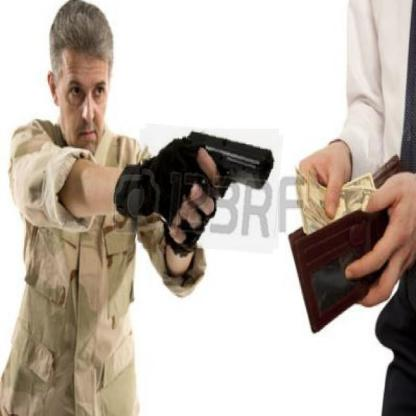handgun: (137, 126, 282, 252)
